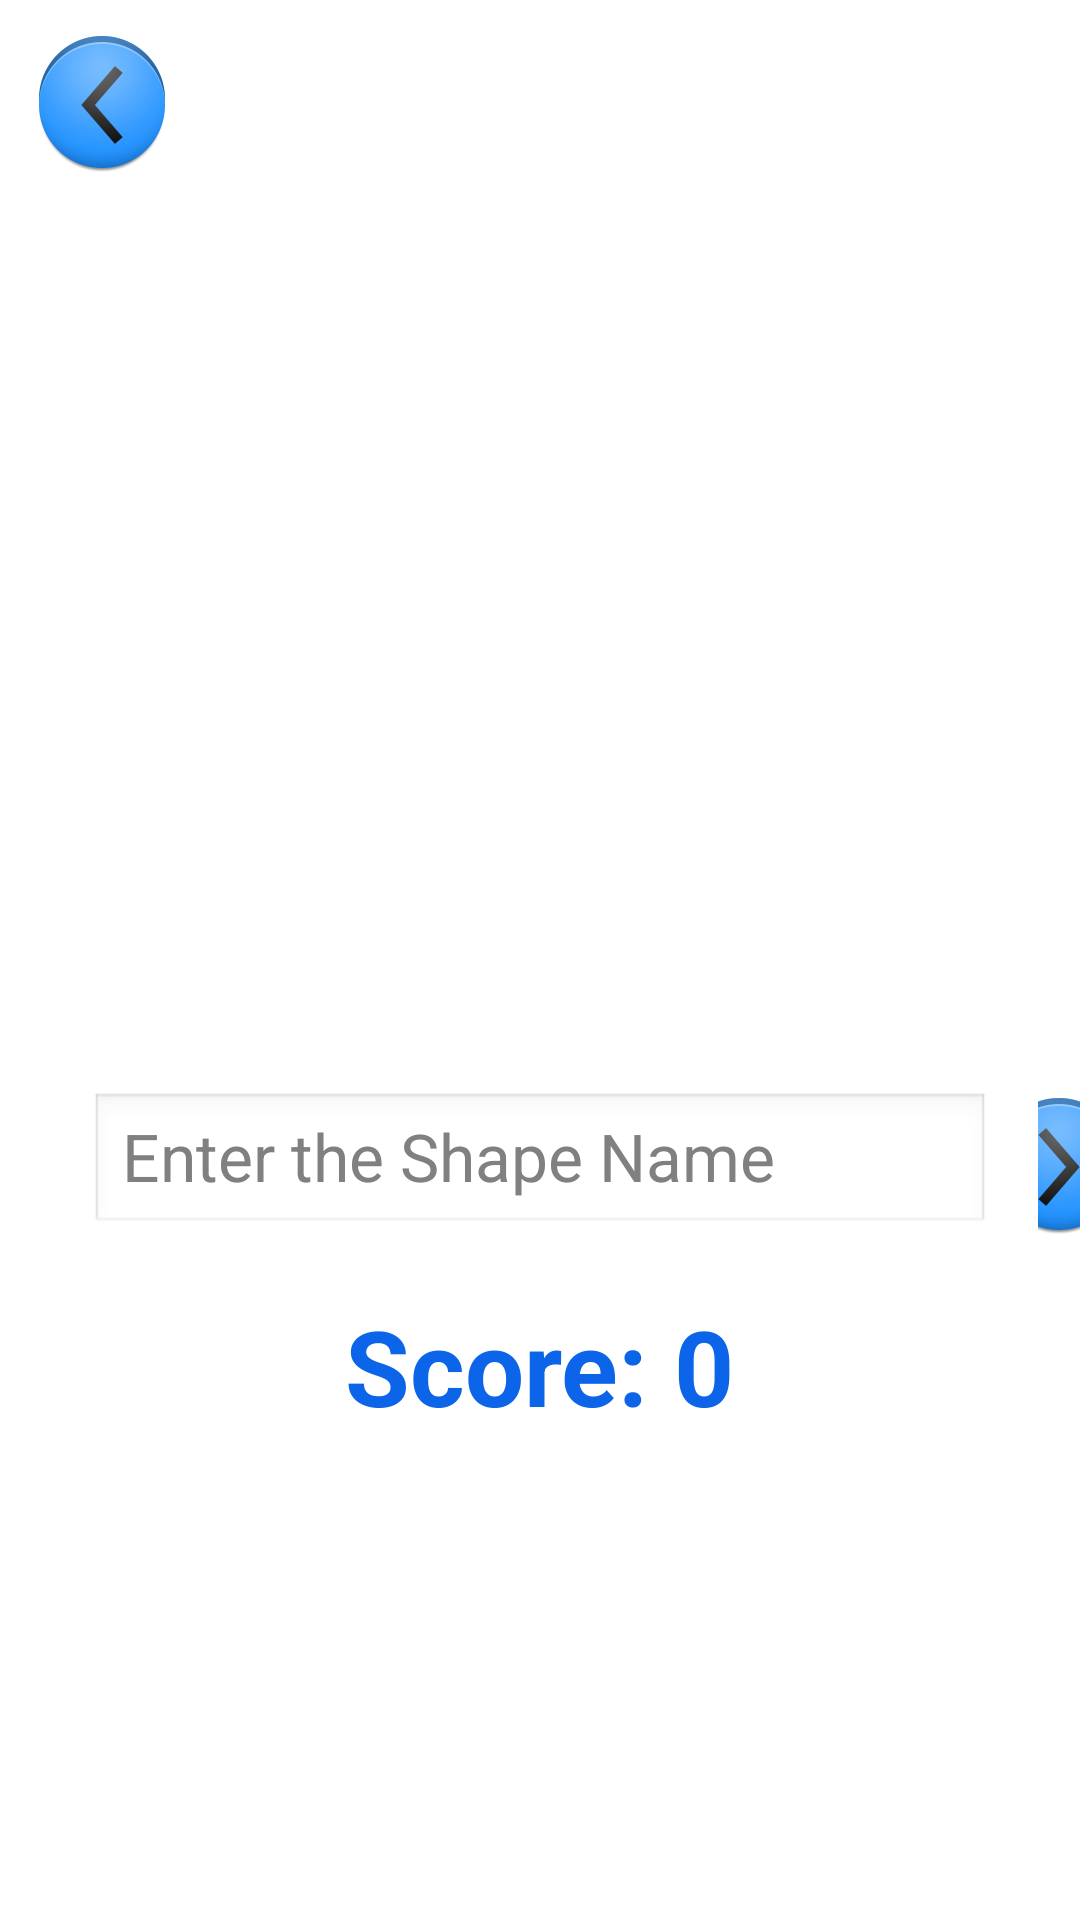

Point at icon controls on the screen. Image size 1080x1920, points as (x=x, y=y).
previous: (x=102, y=103)
